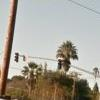Tree: (46, 33, 79, 76)
